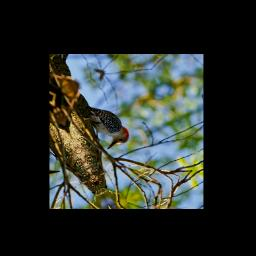Woodpecker: (76, 90, 141, 157)
